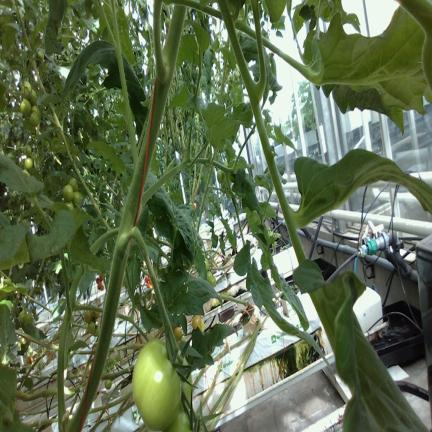6kp_peduncle: (108, 185, 151, 292)
6kp_petiole: (114, 148, 176, 250), (148, 1, 188, 131), (236, 31, 270, 144)
MainStem: (63, 2, 187, 430)
tomato: (132, 338, 192, 430), (165, 404, 191, 431), (29, 105, 40, 127), (20, 98, 31, 116), (63, 184, 73, 201), (22, 81, 31, 98), (72, 191, 82, 205), (192, 315, 201, 329), (18, 310, 26, 325), (30, 89, 37, 106), (174, 326, 183, 339), (87, 321, 96, 334), (69, 178, 78, 191), (24, 157, 33, 170), (24, 313, 33, 324), (217, 170, 224, 183), (84, 310, 91, 323), (207, 271, 213, 284), (105, 379, 112, 389), (200, 319, 205, 332), (66, 202, 74, 210), (211, 275, 216, 287), (94, 326, 100, 336), (93, 311, 100, 319), (179, 335, 186, 342), (205, 259, 209, 270), (226, 191, 231, 199), (21, 337, 25, 344), (194, 203, 196, 208)
